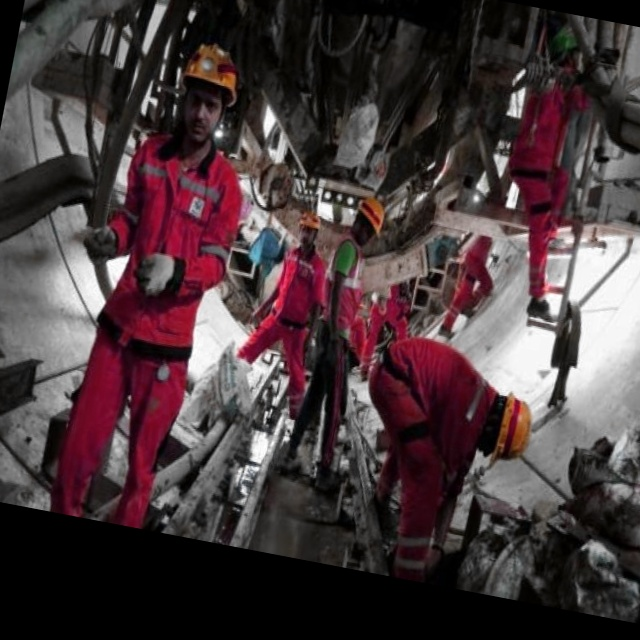Con_Casco: (170, 36, 246, 143), (477, 390, 537, 474), (350, 195, 390, 248)
